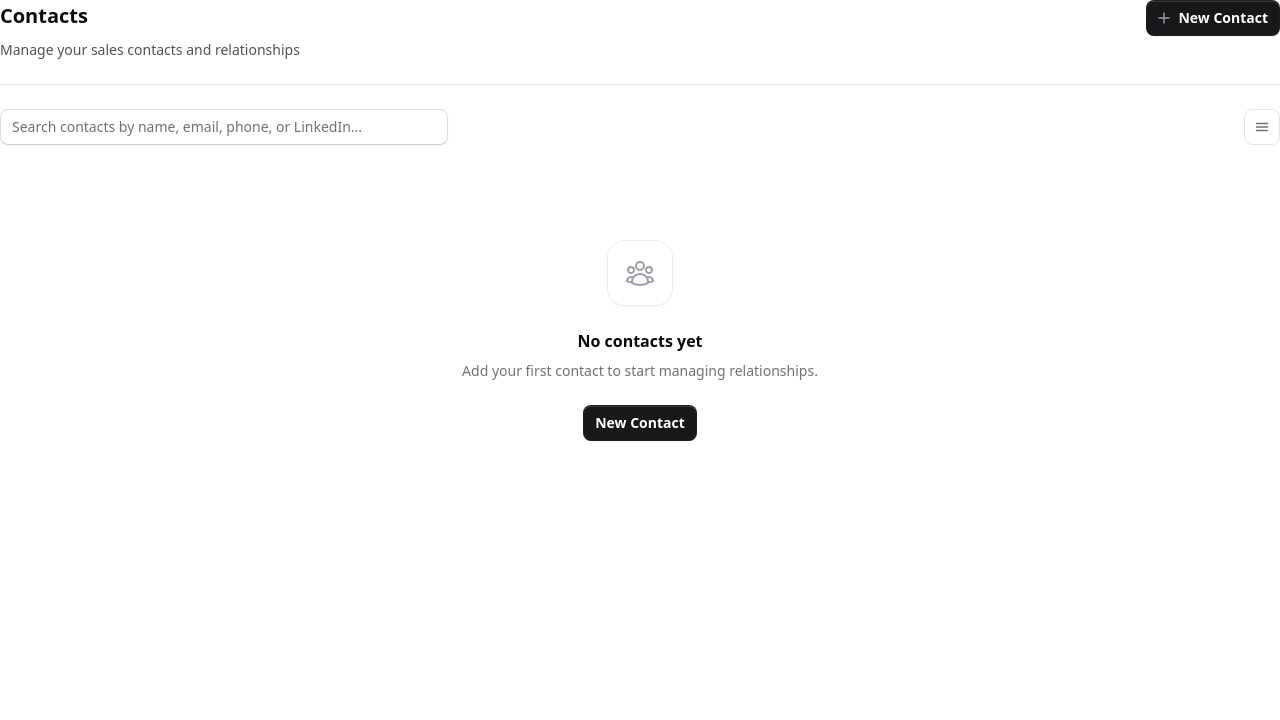
Test case: ContactsList › opens new contact sheet when "New Contact" button is clicked
This screenshot has width=1280, height=720.
Click the 1st button "New Contact": (1213, 18) [1146,0,1279,36]
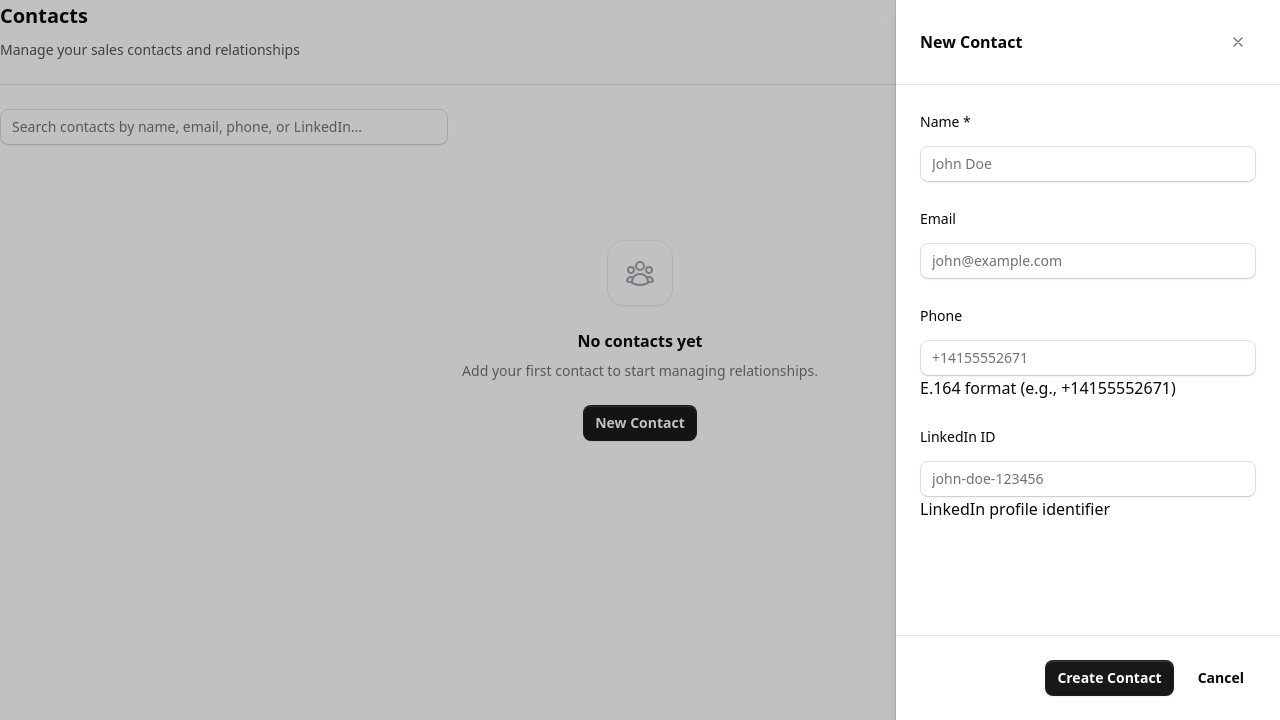
Result: the heading "New Contact" is shown at [920,30,1022,54]
